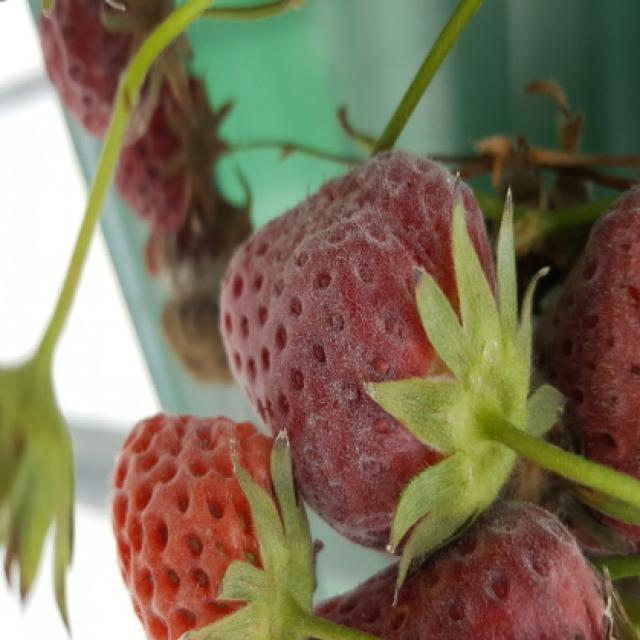Powdery Mildew Fruit: (217, 148, 528, 558), (305, 502, 623, 638), (532, 183, 640, 548)
